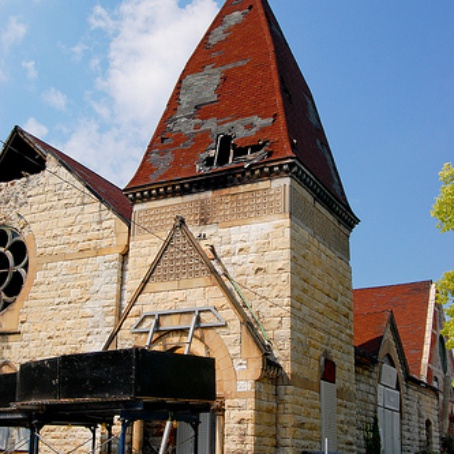building: (1, 1, 435, 449)
sky: (320, 1, 454, 244), (1, 5, 208, 152)
